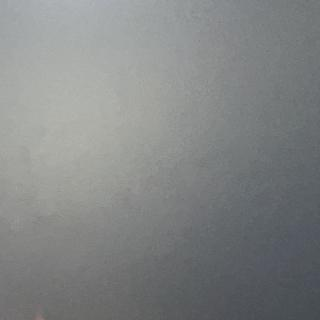fire: (28, 313, 56, 320)
